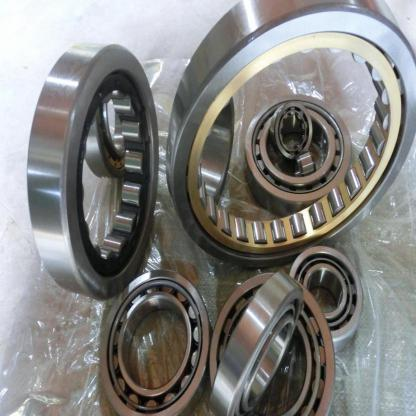FOD: (164, 1, 416, 268), (23, 36, 161, 305), (208, 264, 339, 416), (96, 262, 214, 416), (209, 270, 305, 415), (290, 241, 364, 351)
